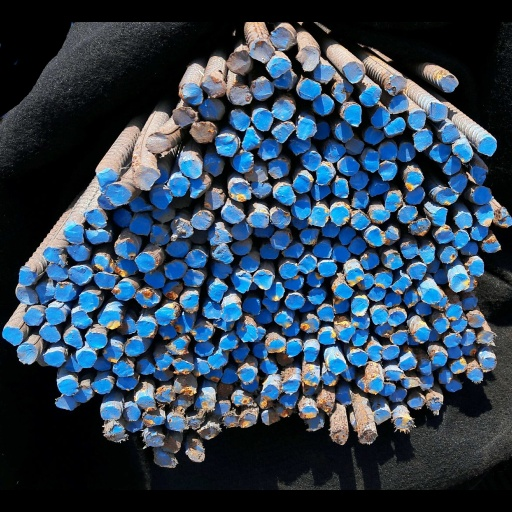dipstick: (133, 167, 159, 190), (270, 27, 294, 51), (297, 46, 319, 72), (250, 77, 274, 100), (226, 51, 250, 74), (199, 99, 224, 121), (249, 40, 273, 62), (172, 106, 197, 127), (105, 184, 130, 205), (209, 222, 232, 244), (202, 76, 225, 98), (150, 187, 172, 209), (272, 121, 294, 143), (312, 94, 334, 116), (146, 132, 169, 153), (272, 99, 295, 120), (342, 62, 365, 83), (68, 265, 92, 285), (173, 375, 197, 395), (92, 252, 114, 273), (229, 109, 250, 131), (296, 117, 317, 139), (191, 122, 214, 142), (83, 209, 106, 229), (53, 281, 76, 301), (229, 181, 252, 201), (252, 108, 272, 131), (323, 143, 346, 163), (298, 80, 321, 100), (43, 247, 67, 266), (15, 285, 39, 304), (167, 335, 191, 354), (190, 211, 214, 230), (221, 204, 245, 223), (267, 58, 291, 77), (97, 169, 118, 190), (16, 343, 37, 364), (259, 139, 280, 160), (114, 240, 136, 260), (308, 205, 328, 227), (359, 86, 381, 106), (385, 75, 407, 95), (408, 110, 430, 130), (170, 219, 193, 238), (408, 217, 431, 236), (242, 128, 260, 152), (97, 311, 122, 328), (182, 83, 202, 104), (78, 292, 99, 312), (104, 422, 125, 442), (204, 188, 224, 209), (233, 151, 253, 172), (271, 207, 291, 228), (203, 156, 224, 176), (215, 136, 236, 156), (332, 83, 353, 103), (136, 288, 158, 307), (143, 408, 165, 427), (211, 245, 233, 264), (314, 64, 336, 83), (342, 104, 361, 126), (371, 107, 390, 129), (178, 160, 201, 178), (229, 86, 252, 104), (64, 224, 84, 244), (253, 270, 273, 290), (275, 185, 295, 205), (168, 177, 189, 196), (2, 327, 23, 346), (113, 281, 134, 300), (220, 303, 241, 322), (231, 221, 252, 240), (247, 209, 268, 228), (268, 160, 289, 179), (378, 160, 397, 181), (384, 117, 405, 136), (115, 258, 137, 276), (233, 271, 251, 293), (166, 240, 189, 257), (436, 188, 459, 205), (66, 244, 90, 260), (150, 226, 169, 246), (135, 253, 155, 272), (237, 364, 256, 384), (330, 206, 349, 226), (428, 102, 448, 121), (441, 124, 460, 144), (453, 143, 473, 162), (468, 166, 488, 185), (448, 173, 468, 192), (71, 310, 92, 328), (85, 332, 106, 350), (185, 250, 206, 268), (290, 200, 311, 218), (404, 186, 425, 204), (414, 130, 432, 151), (430, 144, 451, 162), (94, 272, 116, 289), (43, 350, 65, 367), (210, 261, 232, 278), (63, 353, 82, 372), (163, 281, 182, 300), (270, 231, 289, 250), (298, 255, 317, 274), (302, 151, 321, 170), (340, 156, 359, 175), (392, 276, 411, 295), (478, 137, 497, 156), (113, 208, 131, 228), (45, 307, 65, 325), (64, 329, 82, 349), (136, 320, 156, 338), (73, 385, 93, 403), (155, 307, 175, 325), (238, 324, 258, 342), (331, 178, 349, 198), (405, 171, 423, 191), (397, 142, 415, 162), (364, 126, 384, 144), (129, 218, 150, 235), (47, 263, 68, 280), (39, 325, 60, 342), (124, 339, 145, 356), (165, 262, 186, 279), (239, 255, 260, 272), (388, 95, 409, 112), (476, 205, 493, 226), (86, 229, 109, 244), (153, 453, 176, 468), (18, 266, 36, 285), (181, 294, 199, 313), (209, 282, 227, 301), (293, 174, 311, 193), (351, 212, 370, 230), (367, 228, 386, 246), (335, 122, 353, 141), (350, 171, 369, 189), (378, 142, 396, 161), (442, 156, 461, 174), (473, 186, 492, 204), (450, 273, 469, 291), (102, 346, 122, 363), (144, 271, 164, 288), (199, 422, 219, 439), (200, 302, 220, 319), (264, 283, 284, 300), (112, 361, 133, 377), (172, 358, 193, 374), (183, 270, 204, 286), (421, 288, 442, 304), (175, 315, 193, 333), (242, 297, 260, 315), (346, 268, 364, 286), (232, 345, 250, 363), (156, 385, 175, 402), (239, 411, 258, 428), (252, 181, 271, 198), (399, 206, 418, 223), (438, 246, 457, 263), (116, 376, 139, 390), (77, 351, 97, 367), (58, 379, 78, 395), (136, 396, 156, 412), (144, 432, 164, 448), (231, 239, 251, 255), (259, 243, 279, 259), (300, 229, 320, 245), (434, 227, 454, 243), (56, 395, 77, 410), (282, 243, 303, 258), (364, 151, 379, 172), (308, 288, 326, 305), (280, 262, 298, 279), (351, 298, 368, 316), (332, 246, 350, 263), (338, 227, 355, 245), (348, 238, 366, 255), (404, 290, 421, 308), (385, 193, 402, 211), (440, 75, 458, 92), (494, 210, 512, 227), (23, 309, 42, 325), (195, 394, 214, 410), (207, 353, 226, 369), (316, 166, 332, 185), (358, 428, 377, 444), (345, 138, 364, 154), (419, 244, 434, 264), (100, 406, 121, 420), (338, 325, 355, 342), (414, 326, 431, 343), (467, 259, 484, 276), (219, 333, 237, 349), (330, 429, 348, 445), (313, 242, 331, 258), (361, 253, 379, 269), (367, 285, 385, 301), (400, 243, 418, 259), (431, 208, 447, 226), (453, 230, 469, 248), (470, 224, 488, 240), (98, 194, 117, 209), (136, 359, 155, 374), (154, 355, 173, 370), (194, 326, 213, 341), (194, 341, 213, 356), (285, 294, 304, 309), (278, 393, 297, 408), (318, 262, 337, 277), (387, 311, 406, 326), (388, 387, 407, 402), (92, 379, 112, 393), (333, 284, 353, 298), (369, 210, 389, 224), (393, 417, 414, 430), (123, 405, 140, 421), (187, 446, 204, 462), (193, 360, 209, 377), (261, 409, 278, 425), (302, 371, 319, 387), (168, 415, 186, 430), (261, 385, 279, 400), (274, 312, 292, 327), (300, 318, 318, 333), (384, 253, 402, 268), (432, 318, 450, 333), (482, 237, 500, 252), (477, 330, 495, 345), (267, 338, 286, 352), (389, 331, 408, 345), (214, 400, 230, 416), (352, 329, 368, 345), (307, 271, 323, 287), (376, 272, 392, 288), (357, 274, 373, 290), (446, 305, 462, 321), (260, 359, 277, 374), (317, 399, 334, 414), (353, 191, 368, 208), (409, 264, 426, 279), (382, 345, 399, 360), (374, 409, 391, 424), (450, 358, 467, 373), (455, 213, 472, 228), (333, 298, 349, 313), (367, 345, 382, 361), (367, 378, 383, 393), (432, 351, 447, 367), (262, 299, 279, 313), (329, 359, 346, 373), (399, 356, 416, 370), (467, 313, 484, 327), (223, 412, 238, 427), (252, 343, 267, 358), (286, 340, 301, 355), (372, 309, 387, 324), (427, 396, 442, 411), (317, 307, 333, 321), (322, 371, 338, 385), (351, 352, 367, 366), (385, 293, 401, 307), (461, 330, 475, 346), (318, 331, 335, 344), (282, 380, 299, 393), (444, 334, 461, 347), (308, 416, 323, 430), (418, 375, 433, 389), (482, 356, 496, 371), (304, 347, 317, 363), (446, 346, 462, 359), (383, 370, 403, 380), (300, 406, 318, 417), (401, 376, 419, 387), (419, 360, 432, 375), (438, 370, 453, 383), (467, 369, 482, 382), (408, 397, 424, 409), (445, 380, 462, 391)
